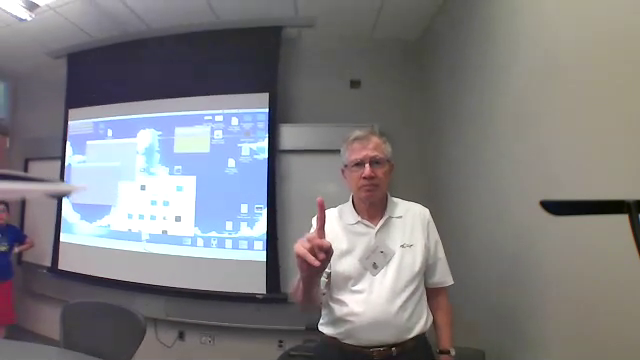up: (287, 193, 338, 280)
